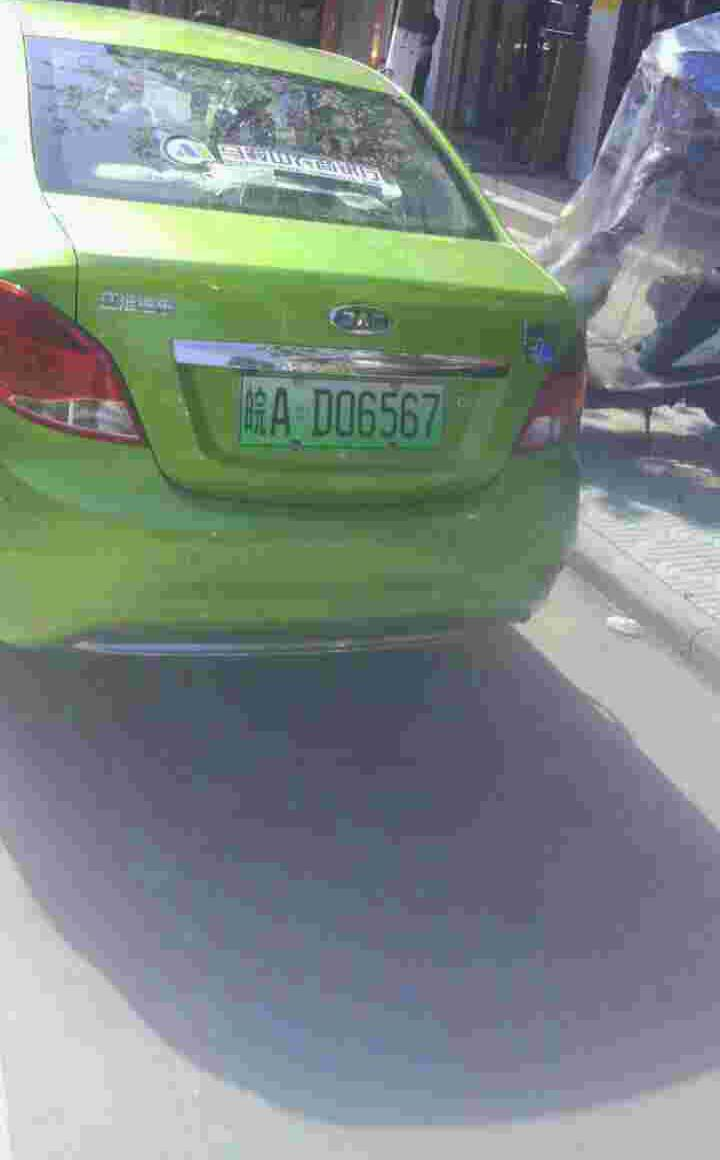car: (236, 375, 450, 450)
